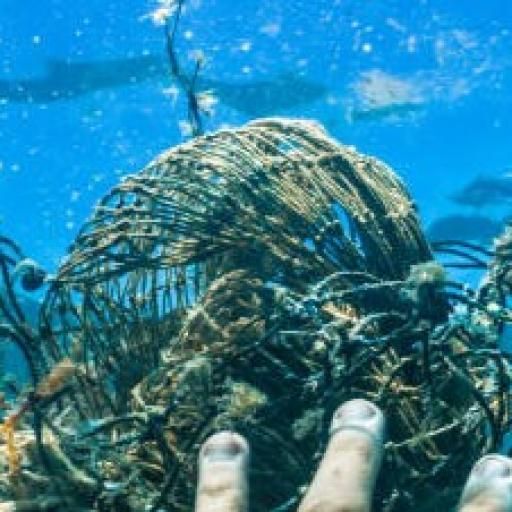net: (2, 115, 511, 512)
